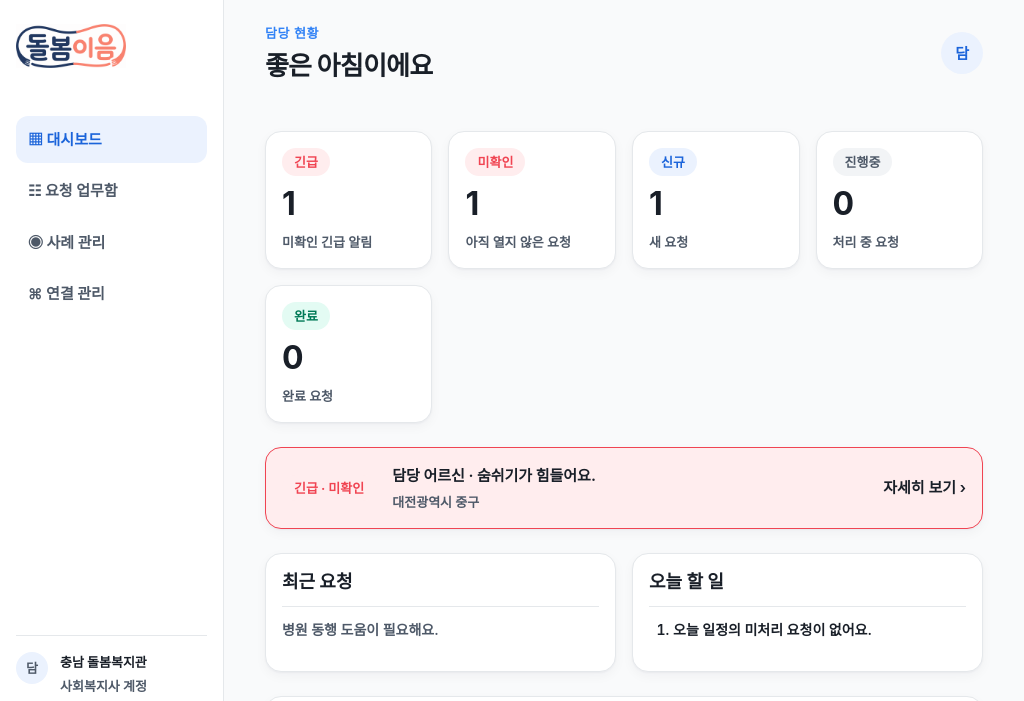
Test case: WorkerDashboard — inbox driven by real API + realtime, not hardcoded mock data (Phase 4) › optimistically removes an emergency after the assigned worker confirms hard delete
Click the button "긴급 · 미확인 담당 어르신 · 숨쉬기가 힘들어요. 대전광역시 중구 자세히 보기 ›" at (329, 488), box [265,447,983,529]
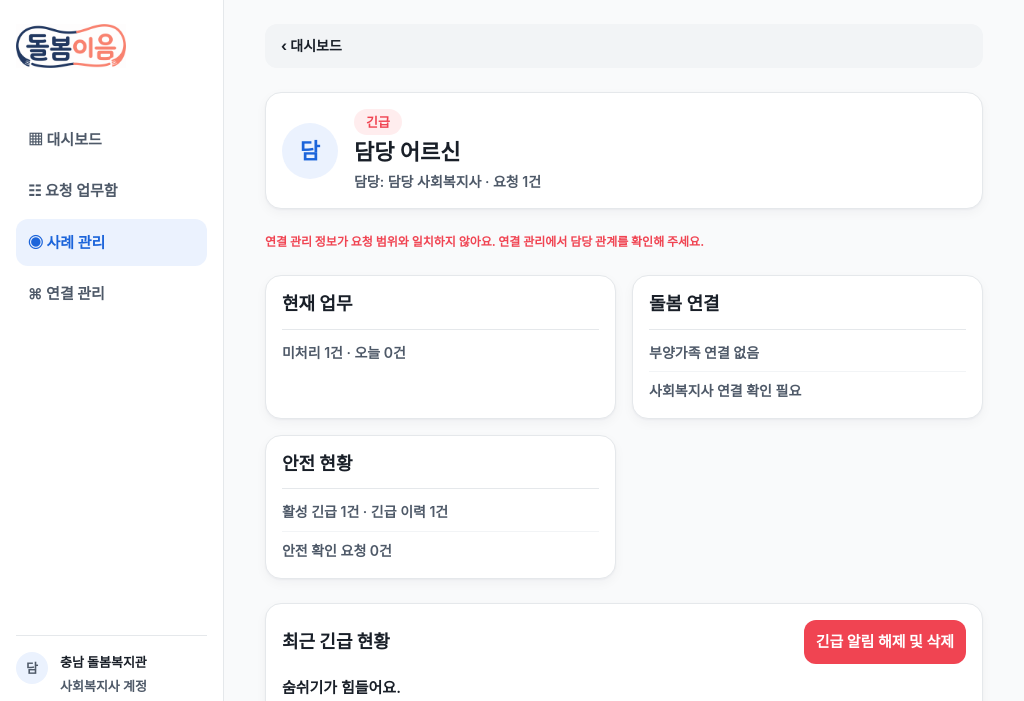
Click the button "긴급 알림 해제 및 삭제" at (885, 642), box [804,620,966,664]
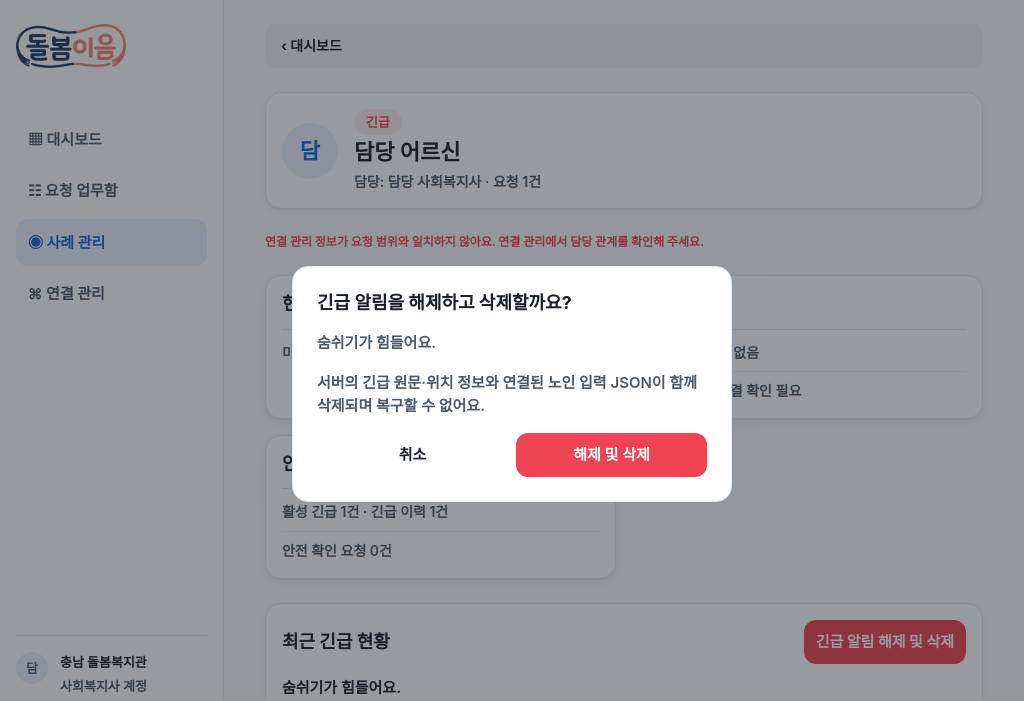
Click the button "해제 및 삭제" at (612, 455), box [516,433,707,477]
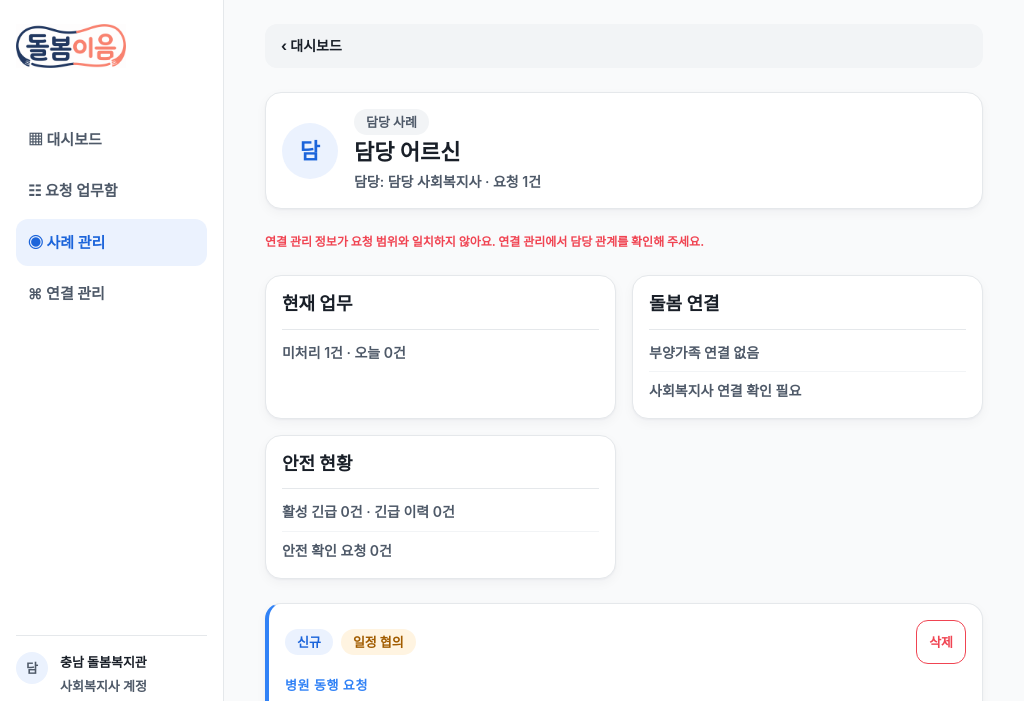
Expected: the text "숨쉬기가 힘들어요." is gone
